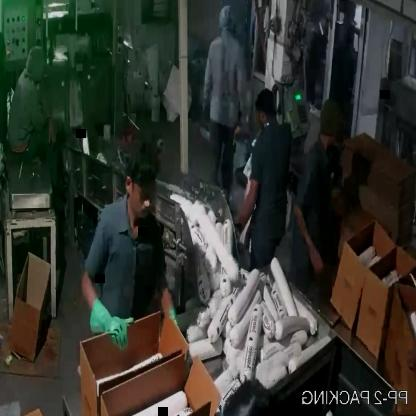glove: (70, 284, 131, 372)
no_glove: (294, 188, 334, 279), (228, 170, 269, 243)
